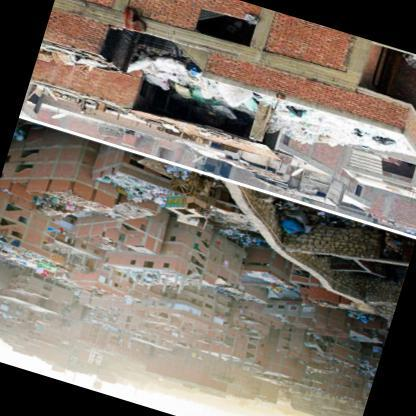Garbage: (132, 54, 229, 113), (30, 188, 78, 226), (109, 174, 160, 206)
